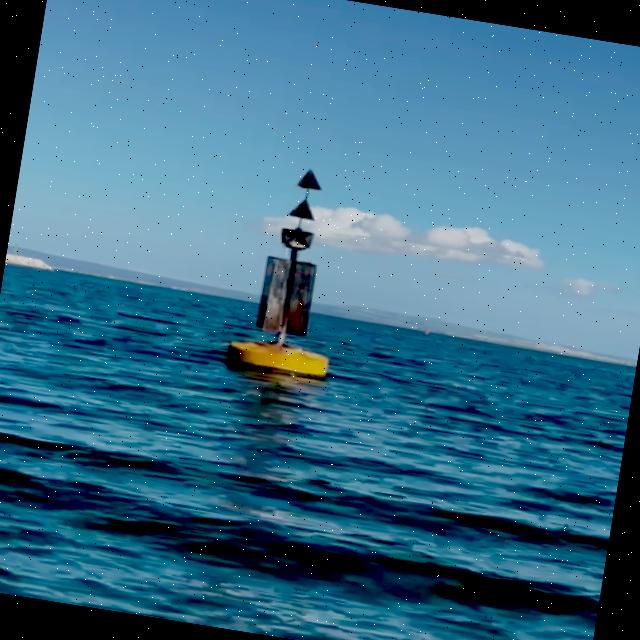marque: (224, 162, 367, 382)
